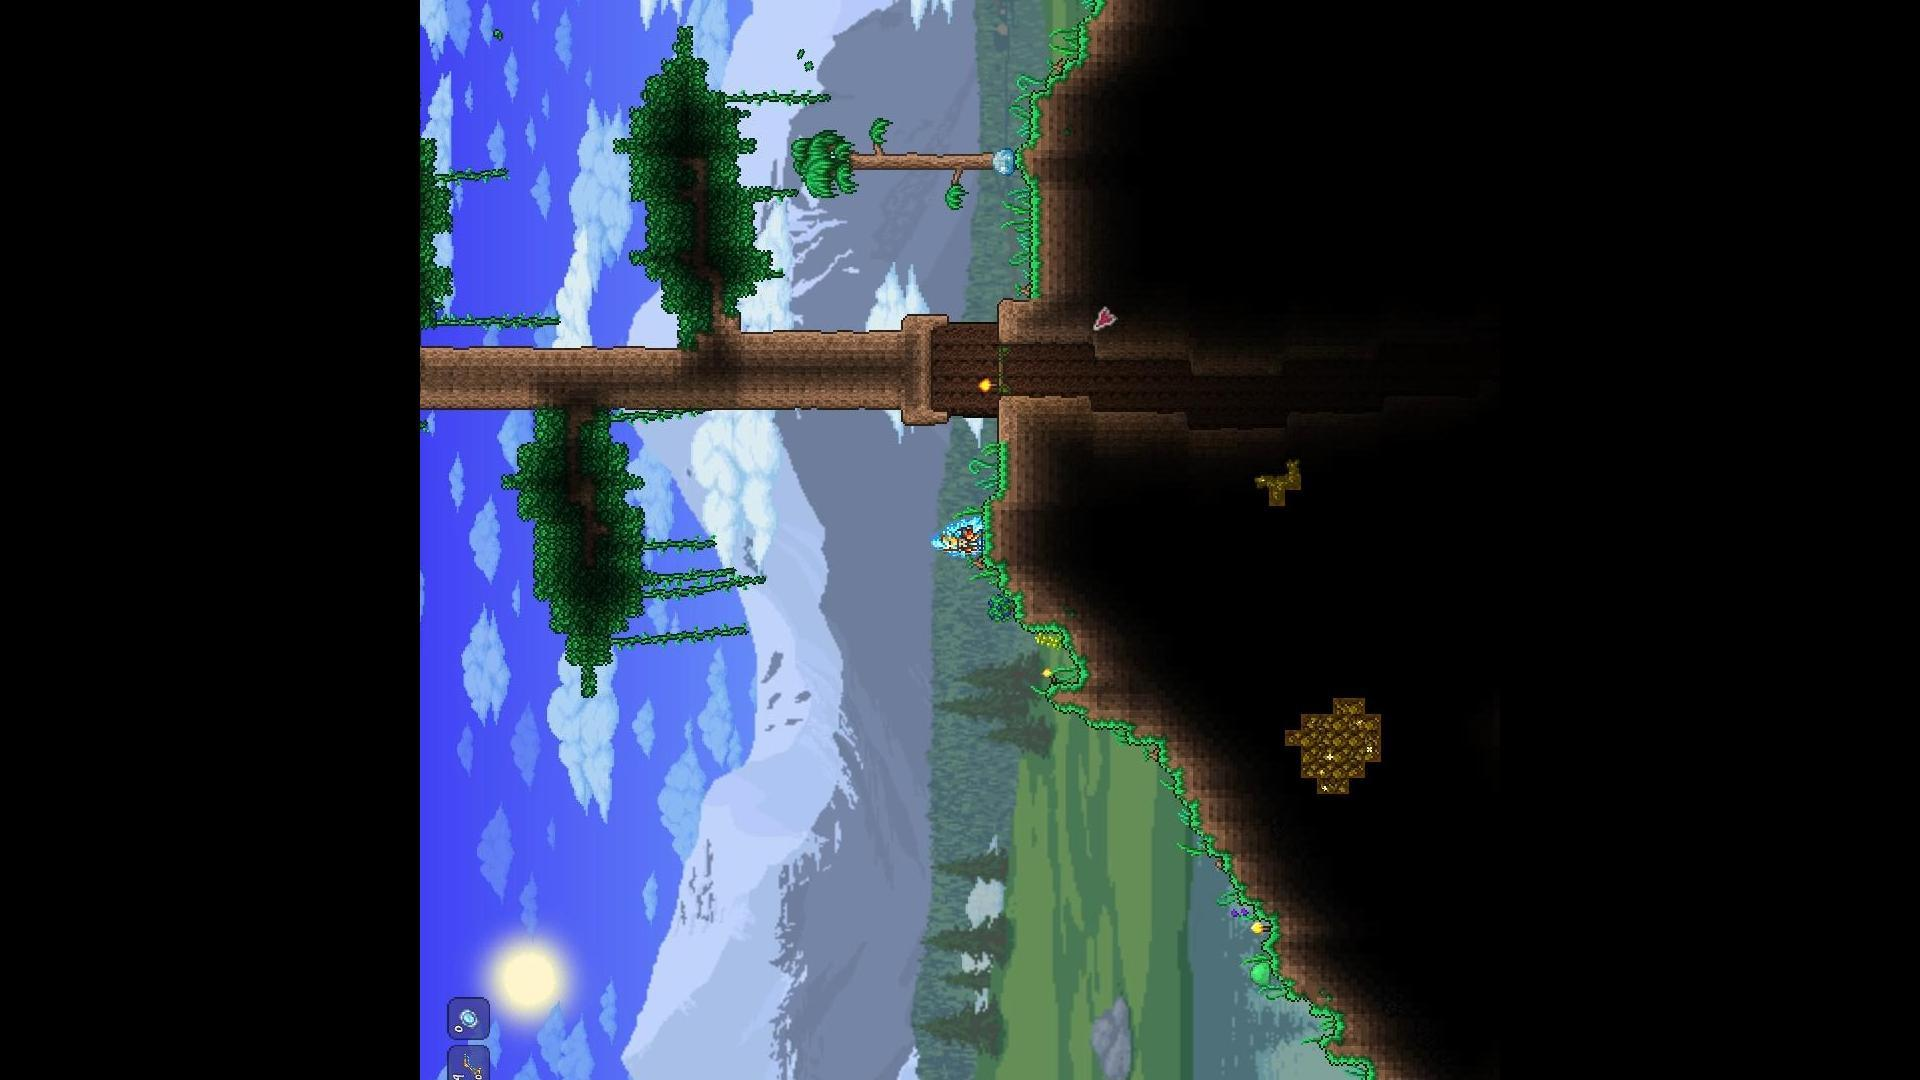slime: (986, 145, 1022, 179), (1250, 961, 1274, 986)
